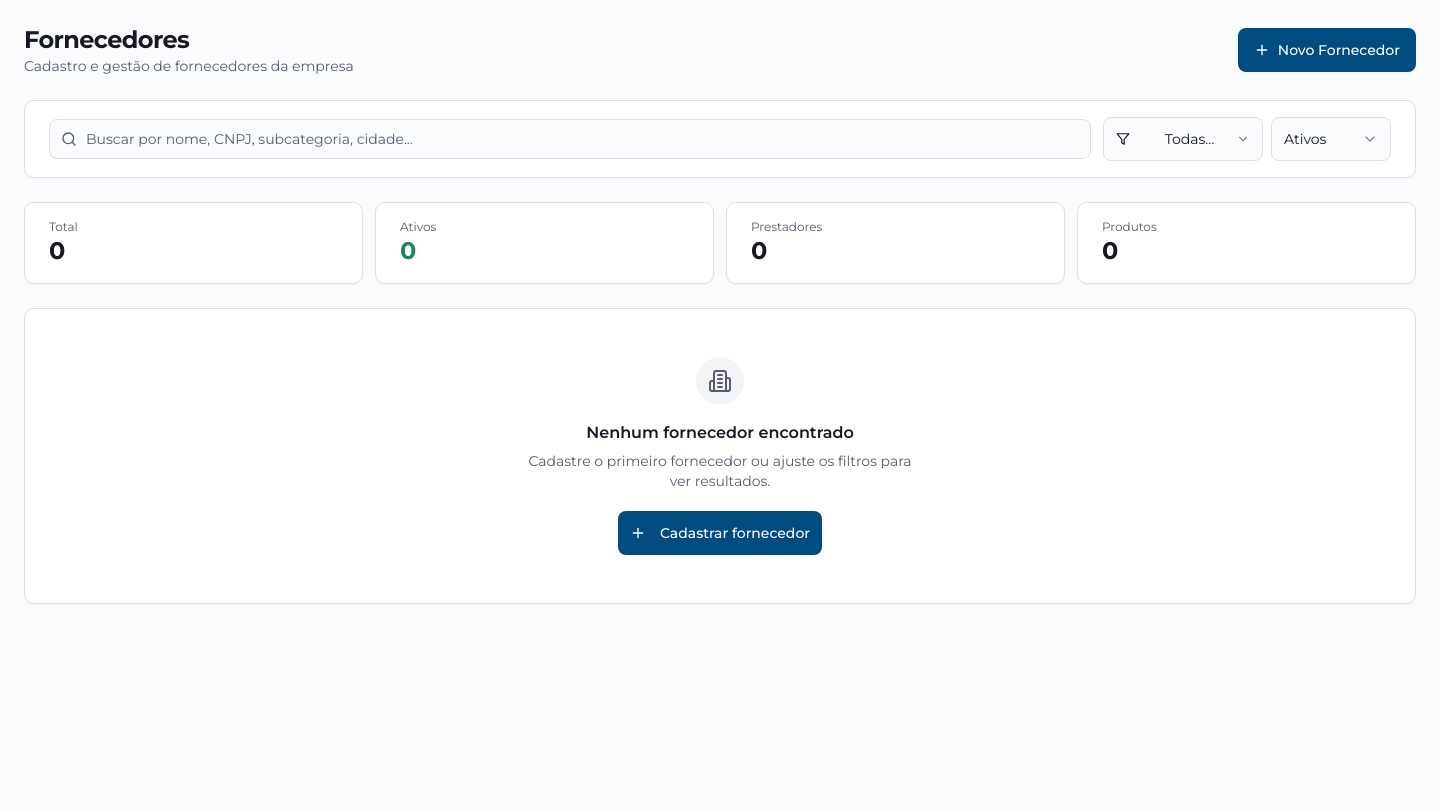
Test case: Supplier Modal — Create › renders Categoria and Subcategoria fields
Click the button "Novo Fornecedor" at point(1327, 50), box [1238,28,1416,72]
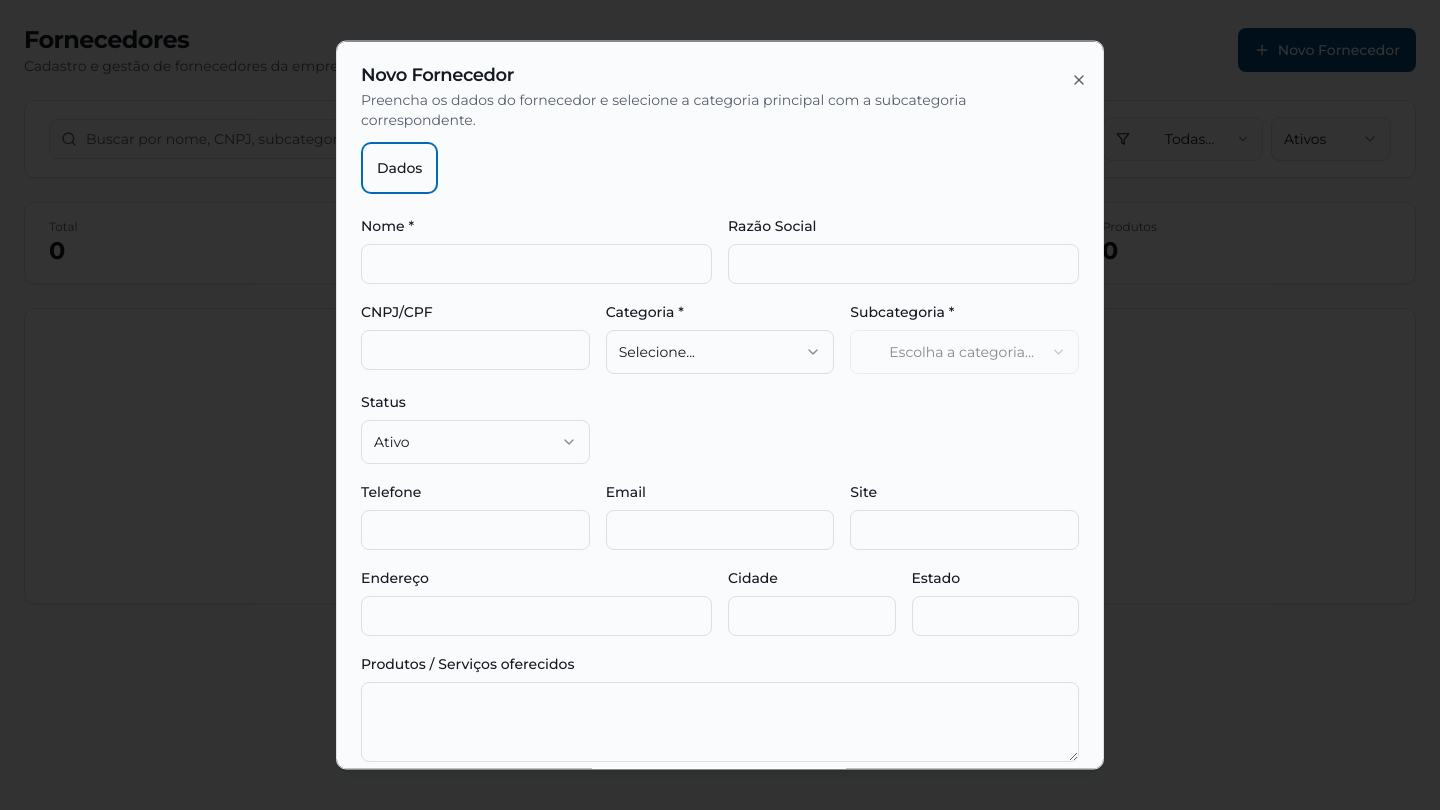
Expected: the text "Categoria *" is shown, [606,302,684,320]
Expected: the text "Subcategoria *" is shown, [850,302,954,320]
